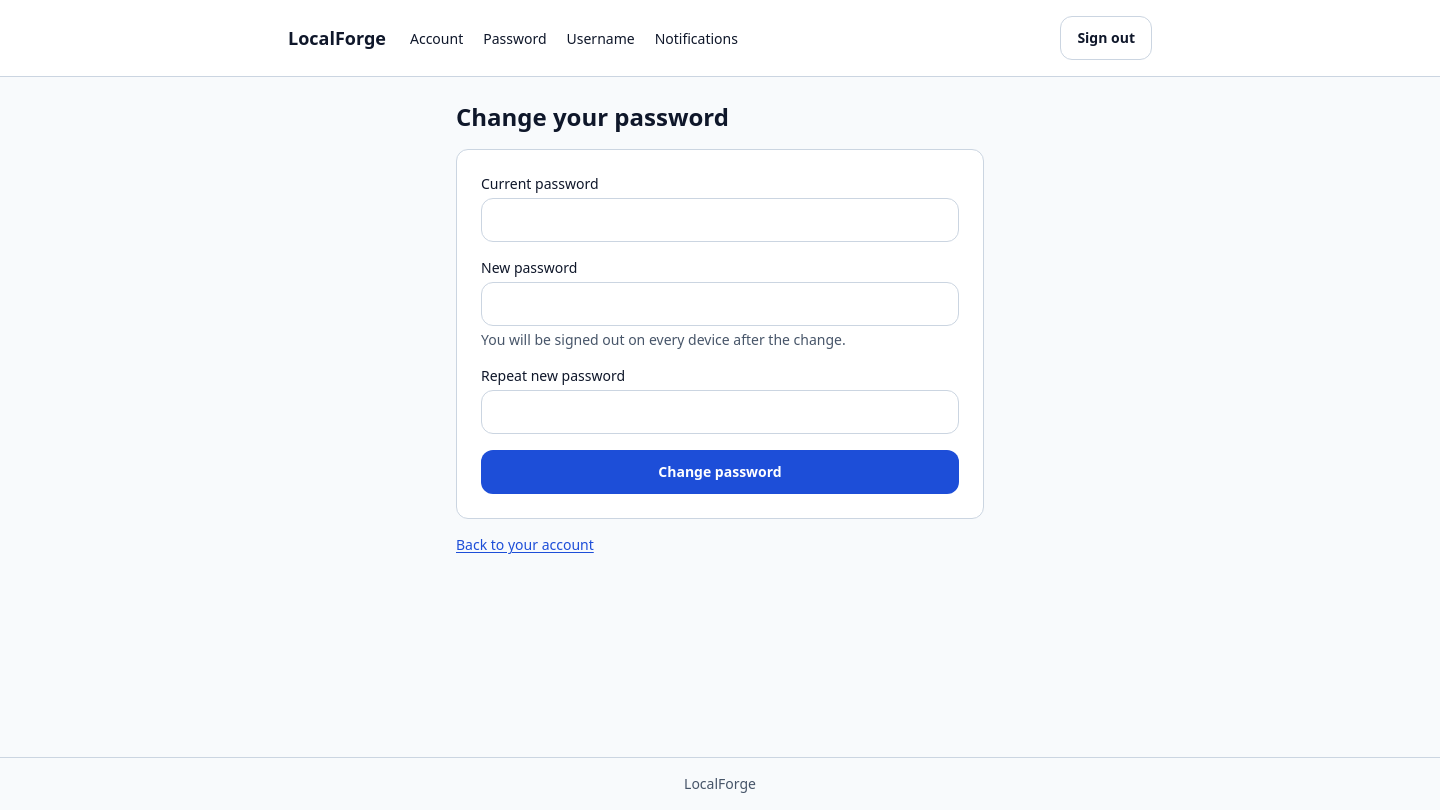
Scenario: ChangePasswordPage › shows a visible, accessible outcome for a 400 answer
This screenshot has width=1440, height=810.
Type "old password" into the password field labelled "Current password".
click(720, 220); type("old password")  # box [481, 198, 959, 242]
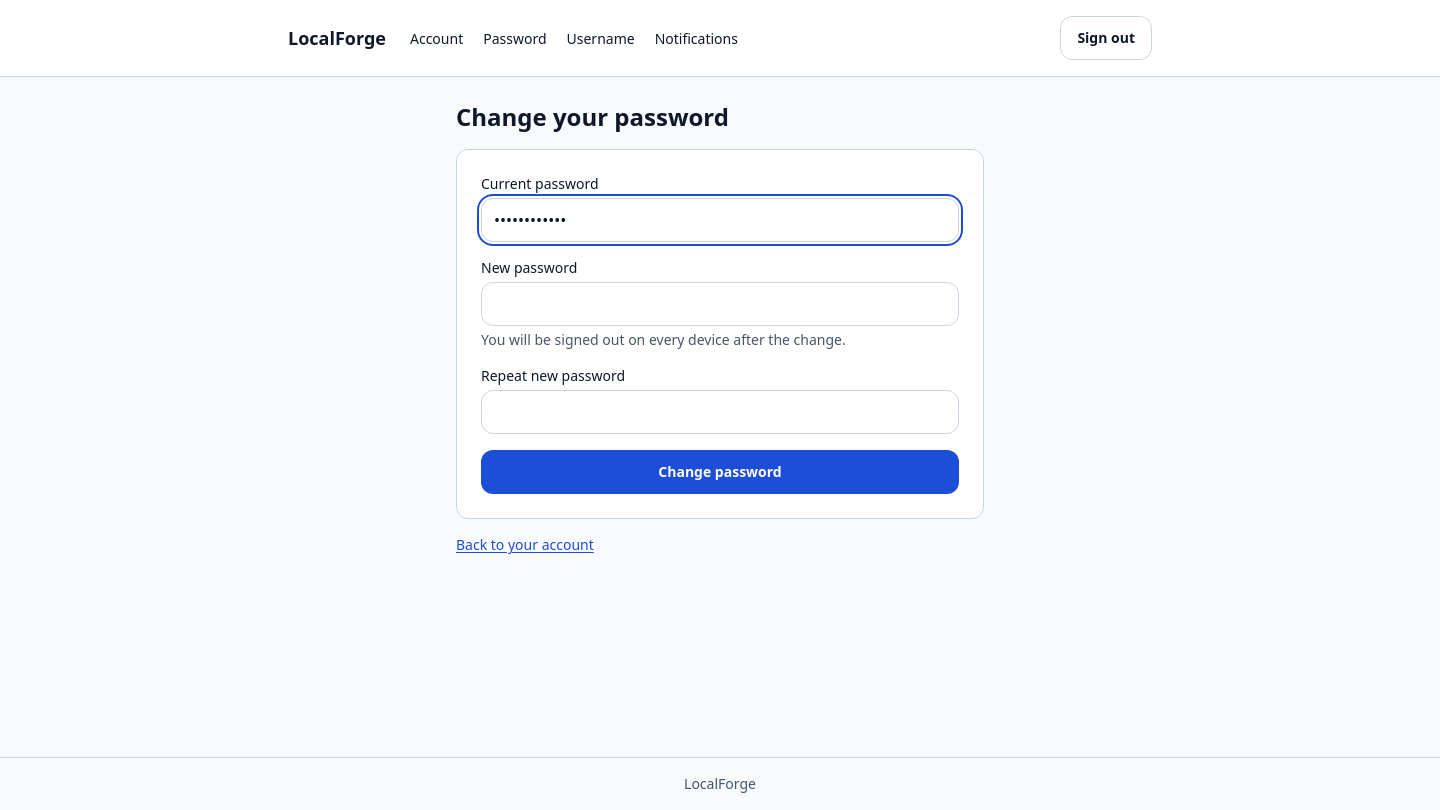
Type "fresh horse battery" into the password field labelled "New password".
click(720, 304); type("fresh horse battery")  # box [481, 282, 959, 326]
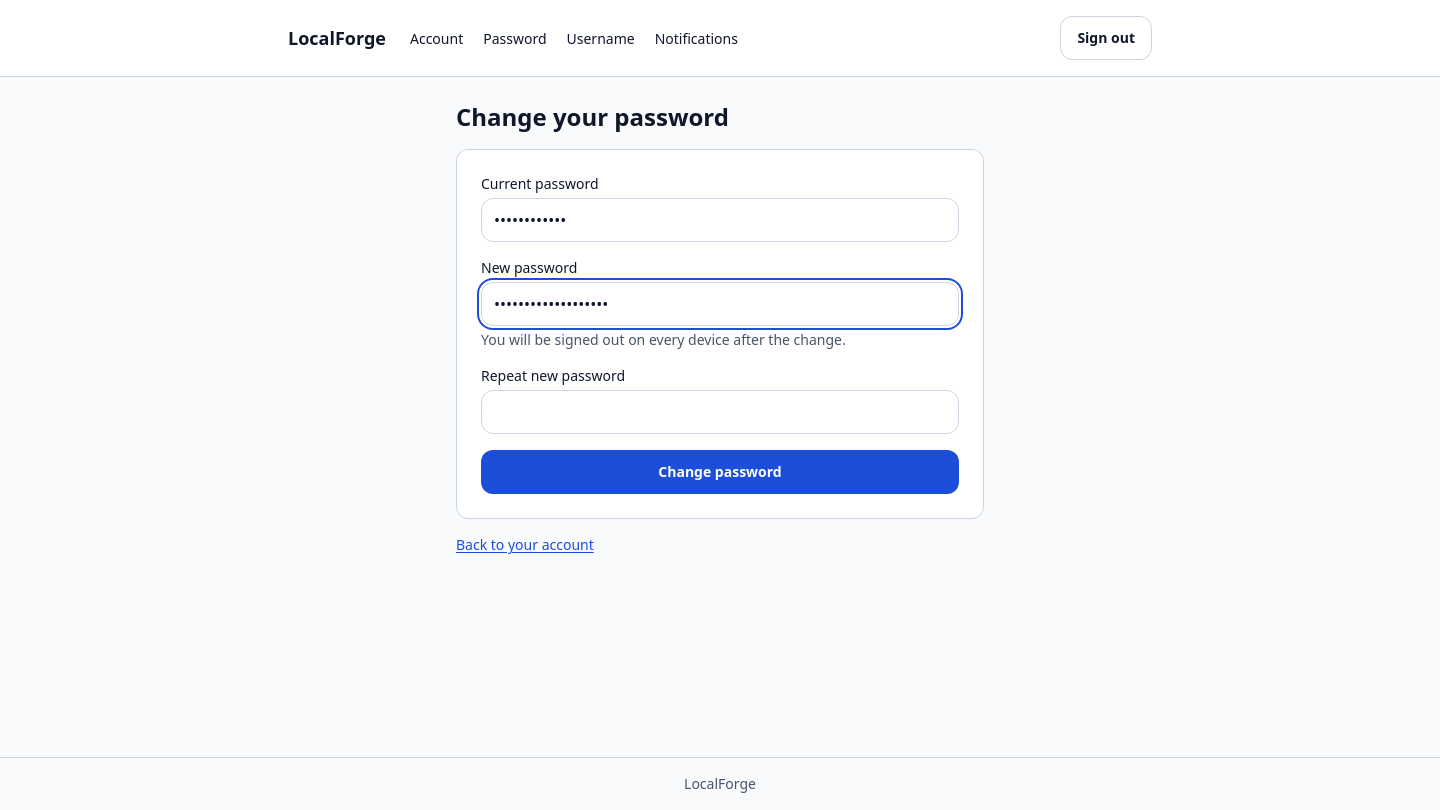
Type "fresh horse battery" into the password field labelled "Repeat new password".
click(720, 412); type("fresh horse battery")  # box [481, 390, 959, 434]
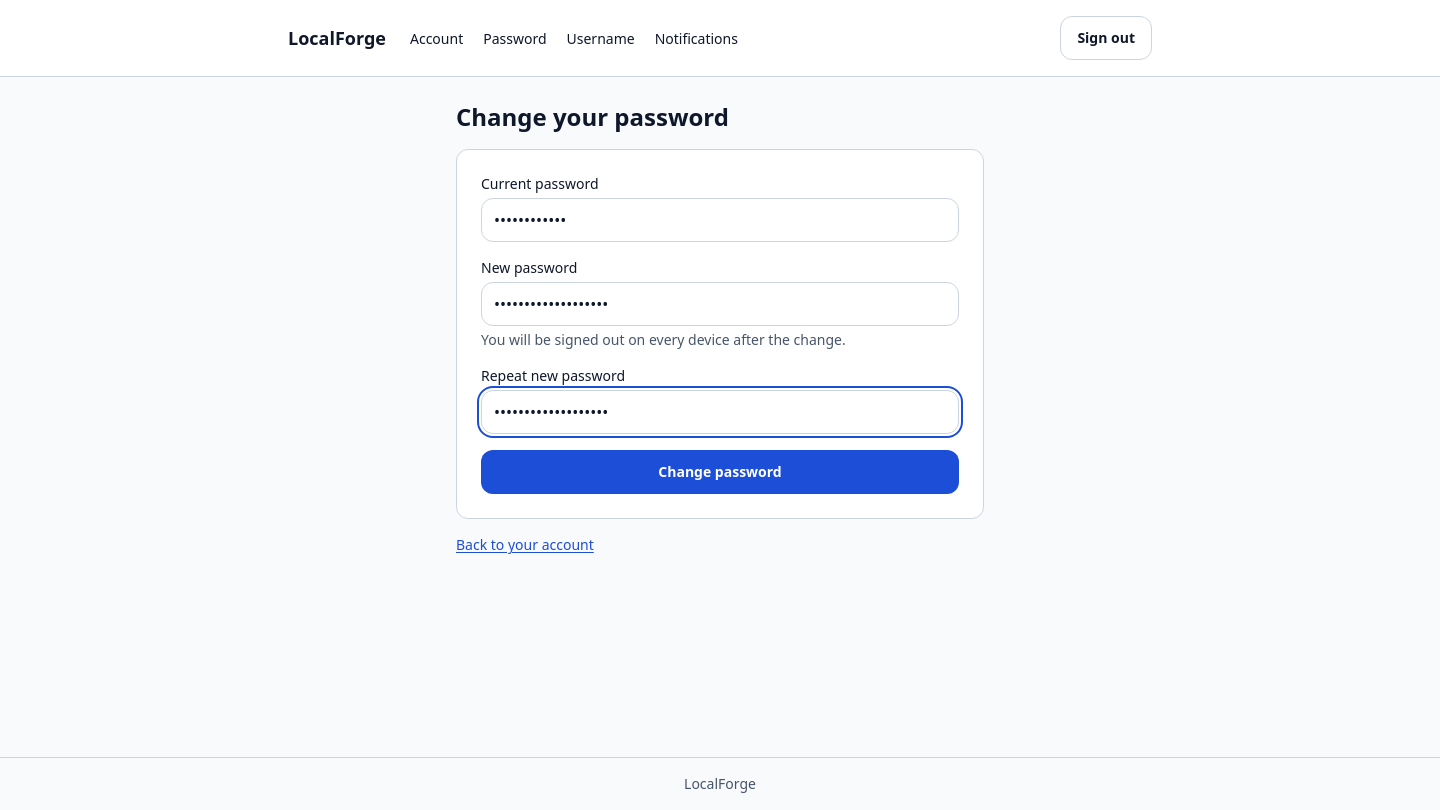
Click the button "Change password".
click(720, 472)  # box [481, 450, 959, 494]
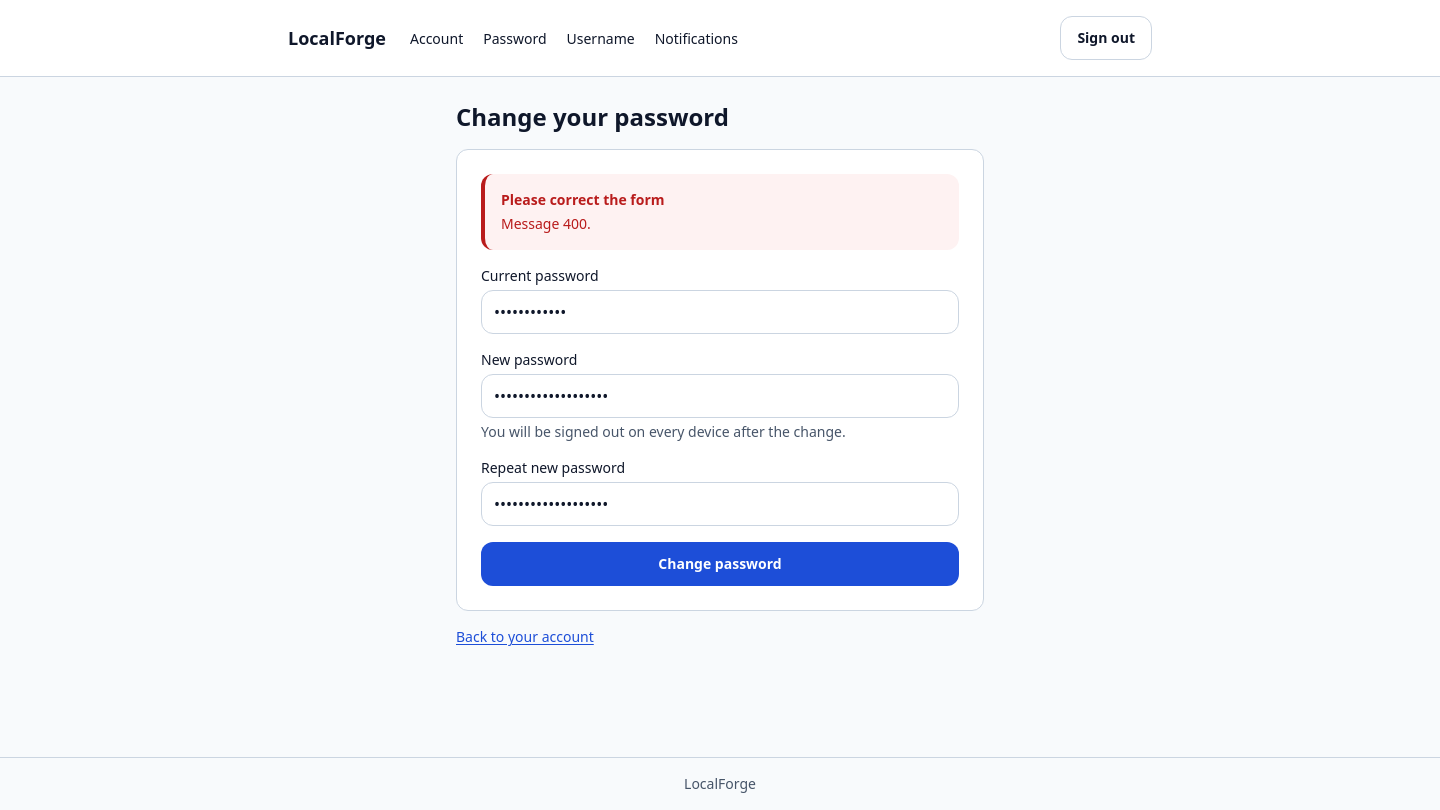
Check: the button "Change password" is enabled, box [481, 542, 959, 586]
Check: the message "Please correct the form Message 400." is shown, box [481, 174, 959, 250]
